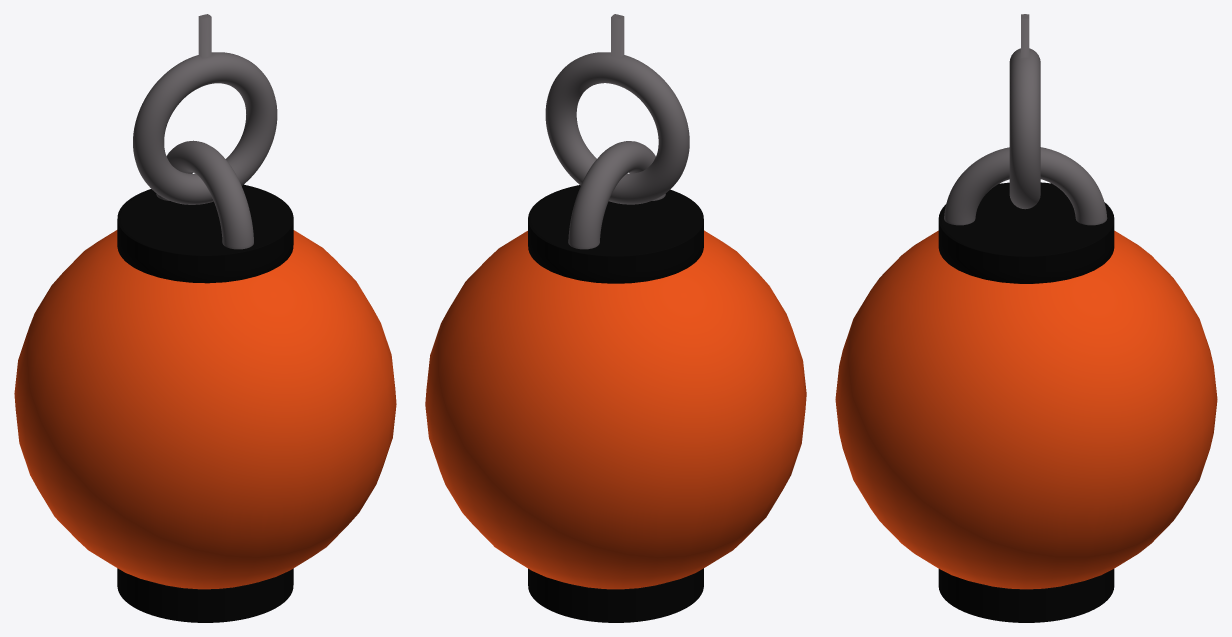
The model's file is lantern.fbx.
3 renders of one model, left to right at view 1: azimuth 30°, elevation 25°; view 2: azimuth 150°, elevation 25°; view 3: azimuth 270°, elevation 25°, orthographic.
Parts seen in each view (by area): view 1: Lantern; view 2: Lantern; view 3: Lantern.
Boxes of the visible parts, left/top/right/bottom form: Lantern: left=14, top=14, right=396, bottom=622; Lantern: left=425, top=14, right=806, bottom=622; Lantern: left=835, top=14, right=1217, bottom=622.
Size of the model in its own units: 78.37 by 129 by 78.37.
